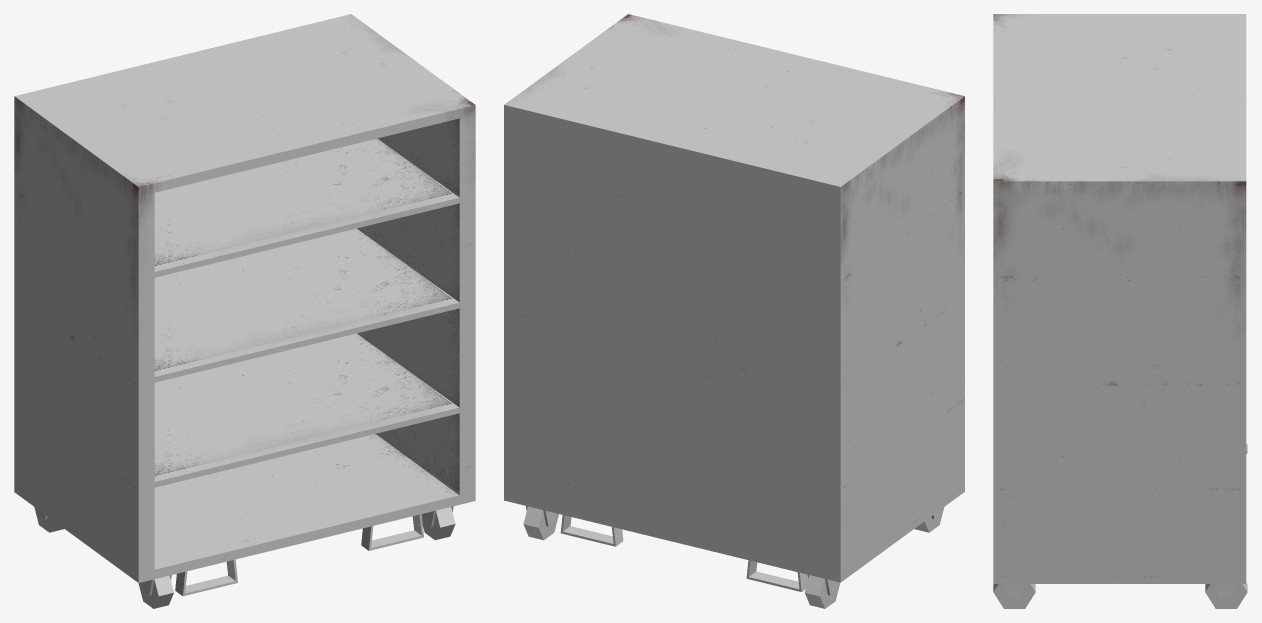
Rendered from HuoXiang.FBX.
3 views of the same model, side by side, from view 1: azimuth 30°, elevation 25°; view 2: azimuth 150°, elevation 25°; view 3: azimuth 270°, elevation 25° (orthographic).
Parts seen in each view (by area): view 1: YF_Model_HuoXiang; view 2: YF_Model_HuoXiang; view 3: YF_Model_HuoXiang.
Part boxes in pixels (x1=…): YF_Model_HuoXiang: x1=14, y1=14, x2=475, y2=608; YF_Model_HuoXiang: x1=504, y1=14, x2=964, y2=608; YF_Model_HuoXiang: x1=993, y1=14, x2=1247, y2=608.
Size of the model in its own units: 9.29 by 11.35 by 5.97.
1 material, 1 textured.
